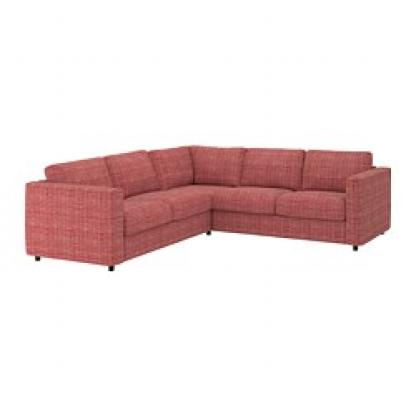Sofa: (12, 102, 396, 296)
